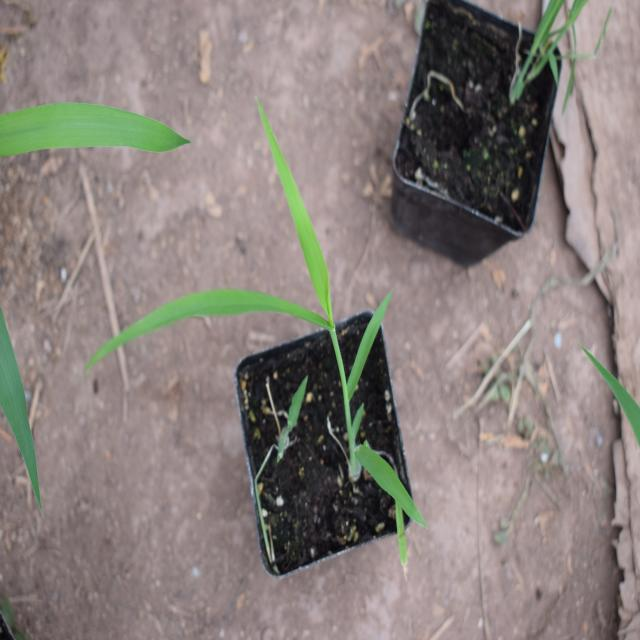crabgrass: (99, 151, 437, 534)
